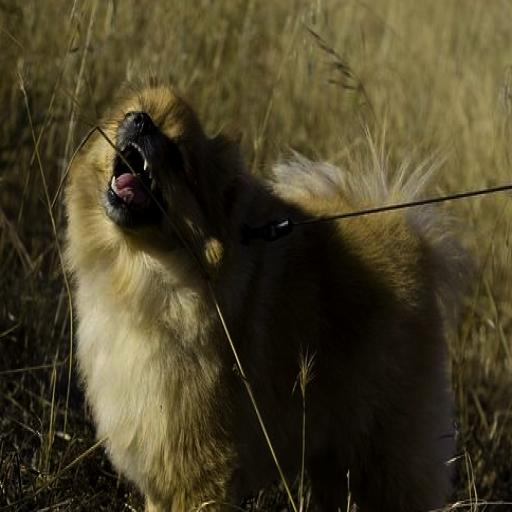dog_face: (89, 77, 241, 268)
